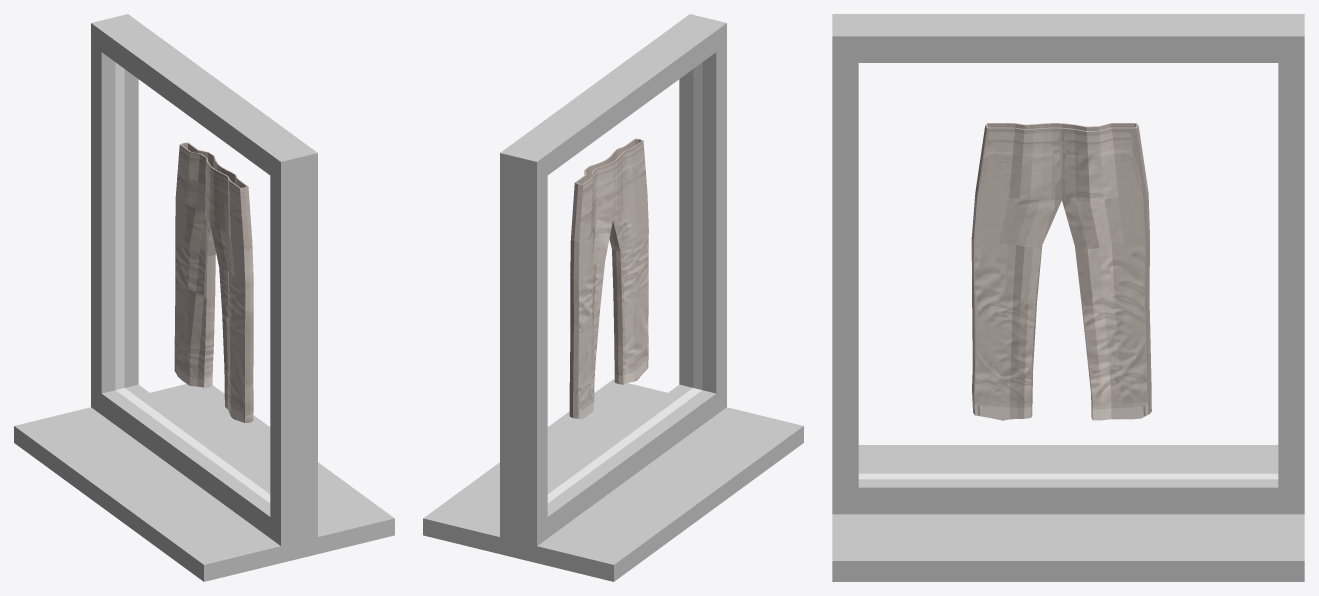
The model's file is chino_cream.glb.
3 views of the same model, side by side, from view 1: azimuth 30°, elevation 25°; view 2: azimuth 150°, elevation 25°; view 3: azimuth 270°, elevation 25° (orthographic). The views are drawn at different scales.
Visible parts, largest first — view 1: Cube.013, Plane.018; view 2: Cube.013, Plane.018; view 3: Cube.013, Plane.018.
Boxes of the visible parts, x1,y1,x2,y2 form: Cube.013: (14,14,394,581); Plane.018: (174,142,253,422); Cube.013: (423,14,803,581); Plane.018: (569,138,648,419); Cube.013: (832,14,1304,581); Plane.018: (971,123,1151,420).
Size of the model in its own units: 0.362 by 0.7276 by 0.6242.
3 materials, 1 textured.
